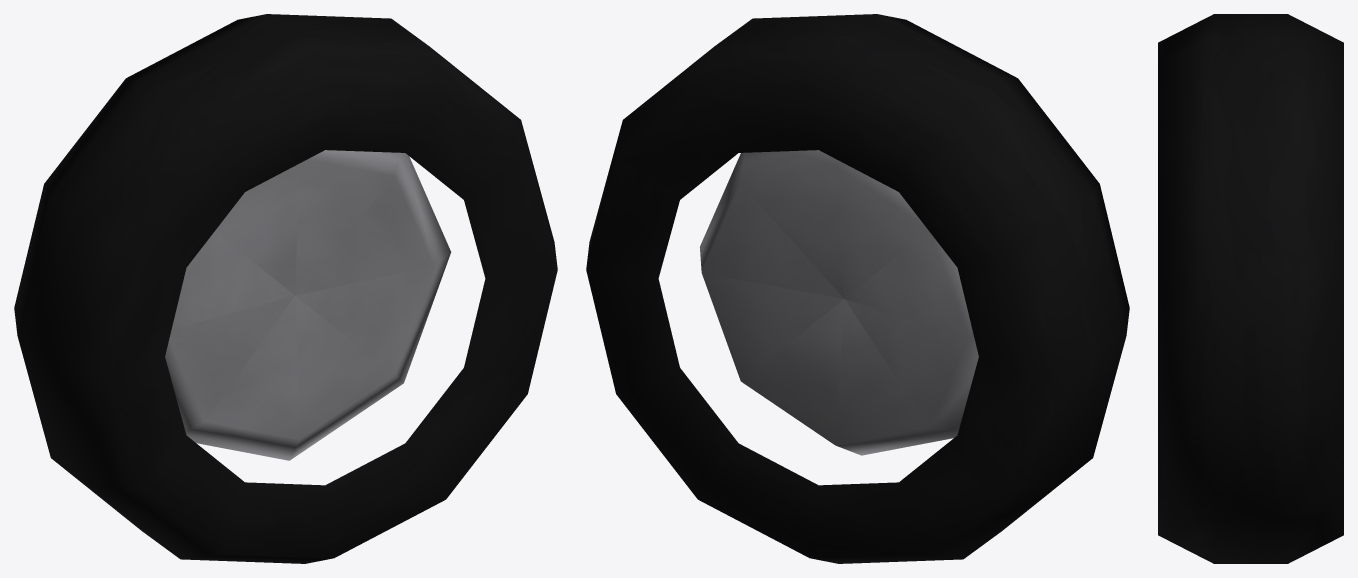
Rendered from tire_L0.glb.
The picture shows the model from 3 angles, left to right: view 1: azimuth 30°, elevation 25°; view 2: azimuth 150°, elevation 25°; view 3: azimuth 270°, elevation 25°; orthographic projection. The views are drawn at different scales.
Parts seen in each view (by area): view 1: tire, rim; view 2: tire, rim; view 3: tire.
Boxes of the visible parts, <box> form: tire: <box>14,14,557,563</box>; rim: <box>165,150,451,460</box>; tire: <box>586,14,1129,563</box>; rim: <box>700,150,978,455</box>; tire: <box>1158,14,1343,563</box>.
Bounding box in the file's own units: 0.632 × 0.632 × 0.2127.
2 materials, 2 textured.
